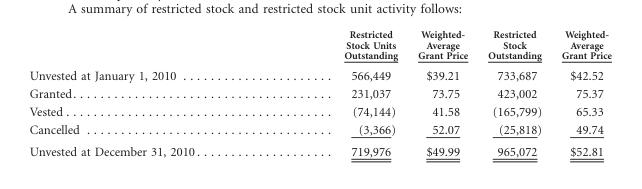table: (28, 28, 611, 157)
table column: (28, 28, 271, 157), (271, 28, 407, 157), (477, 28, 551, 157), (407, 28, 477, 157), (551, 28, 611, 157)
table column header: (28, 28, 611, 64)
table row: (28, 28, 611, 64), (28, 64, 611, 84), (28, 120, 611, 140), (28, 84, 611, 102), (28, 102, 611, 120), (28, 140, 611, 157)
